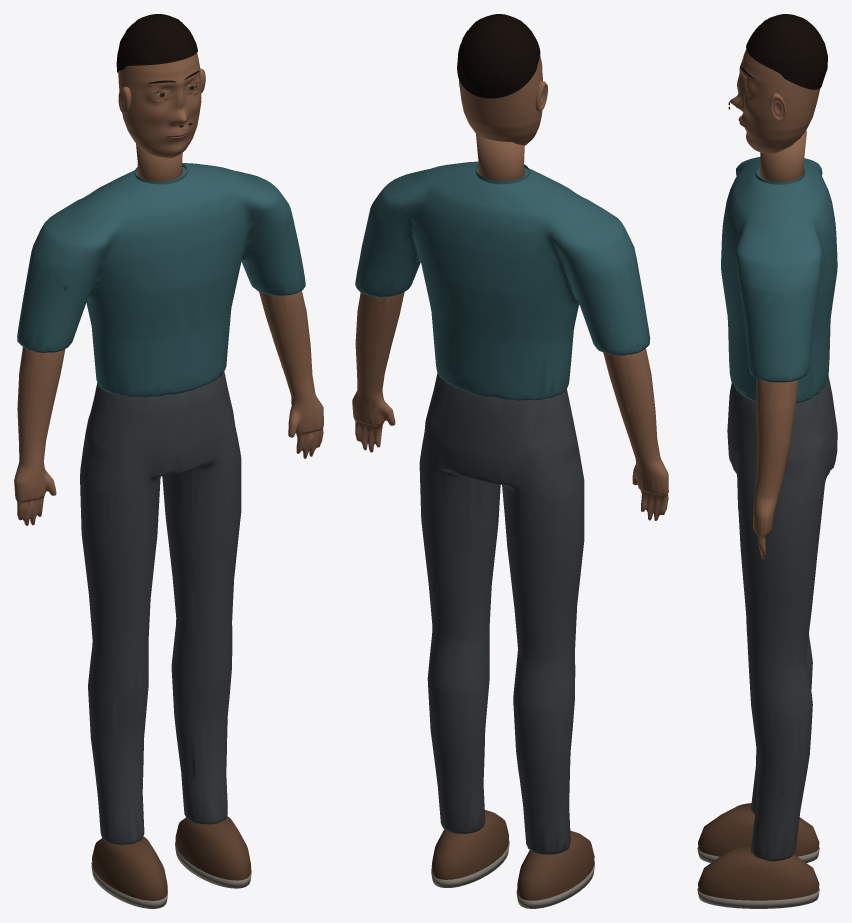
File: anatomy-candidate-v4.glb
3 renders of one model, left to right at view 1: azimuth 30°, elevation 25°; view 2: azimuth 150°, elevation 25°; view 3: azimuth 270°, elevation 25°, orthographic. The views are drawn at different scales.
Parts seen in each view (by area): view 1: Trousers_fused_hip, Shirt_fused_shoulders, Head_continuous_anatomy, Forearm_hand_-1, Forearm_hand_1, Shoe_-1, Shoe_1, Hair_original_close_curl_surface, Neck, Sole_-1, Sole_1; view 2: Trousers_fused_hip, Shirt_fused_shoulders, Forearm_hand_-1, Hair_original_close_curl_surface, Forearm_hand_1, Head_continuous_anatomy, Shoe_-1, Shoe_1, Neck, Sole_-1, Sole_1; view 3: Trousers_fused_hip, Shirt_fused_shoulders, Head_continuous_anatomy, Forearm_hand_1, Shoe_1, Hair_original_close_curl_surface, Shoe_-1, Neck, Sole_1, Ear_Left, Sole_-1.
Part boxes in pixels (<box>): Trousers_fused_hip: <box>80,372,241,844</box>; Shirt_fused_shoulders: <box>17,163,305,397</box>; Head_continuous_anatomy: <box>118,53,201,158</box>; Forearm_hand_-1: <box>14,347,65,525</box>; Forearm_hand_1: <box>259,290,323,458</box>; Shoe_-1: <box>92,836,167,900</box>; Shoe_1: <box>175,816,251,880</box>; Hair_original_close_curl_surface: <box>116,14,197,72</box>; Neck: <box>136,143,182,181</box>; Sole_-1: <box>91,862,167,908</box>; Sole_1: <box>175,842,251,888</box>; Trousers_fused_hip: <box>419,373,584,854</box>; Shirt_fused_shoulders: <box>355,161,650,400</box>; Forearm_hand_-1: <box>603,348,668,520</box>; Hair_original_close_curl_surface: <box>457,14,540,98</box>; Forearm_hand_1: <box>352,292,404,452</box>; Head_continuous_anatomy: <box>459,55,542,145</box>; Shoe_-1: <box>517,830,594,900</box>; Shoe_1: <box>431,810,508,879</box>; Neck: <box>476,133,524,180</box>; Sole_-1: <box>516,861,594,908</box>; Sole_1: <box>431,840,509,887</box>; Trousers_fused_hip: <box>727,375,837,861</box>; Shirt_fused_shoulders: <box>721,157,837,403</box>; Head_continuous_anatomy: <box>729,49,820,153</box>; Forearm_hand_1: <box>753,379,798,559</box>; Shoe_1: <box>698,844,819,900</box>; Hair_original_close_curl_surface: <box>746,14,827,89</box>; Shoe_-1: <box>698,803,819,856</box>; Neck: <box>759,130,806,181</box>; Sole_1: <box>697,888,819,908</box>; Ear_Left: <box>769,93,786,121</box>; Sole_-1: <box>697,847,819,862</box>.
Bounding box in the file's own units: 0.6627 × 1.75 × 0.2586.
